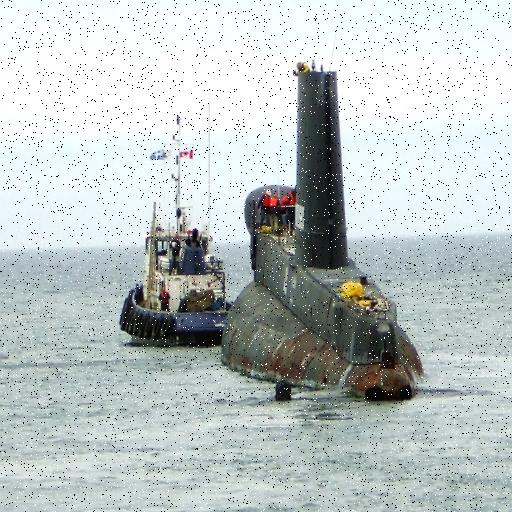submarine: (219, 58, 420, 404)
